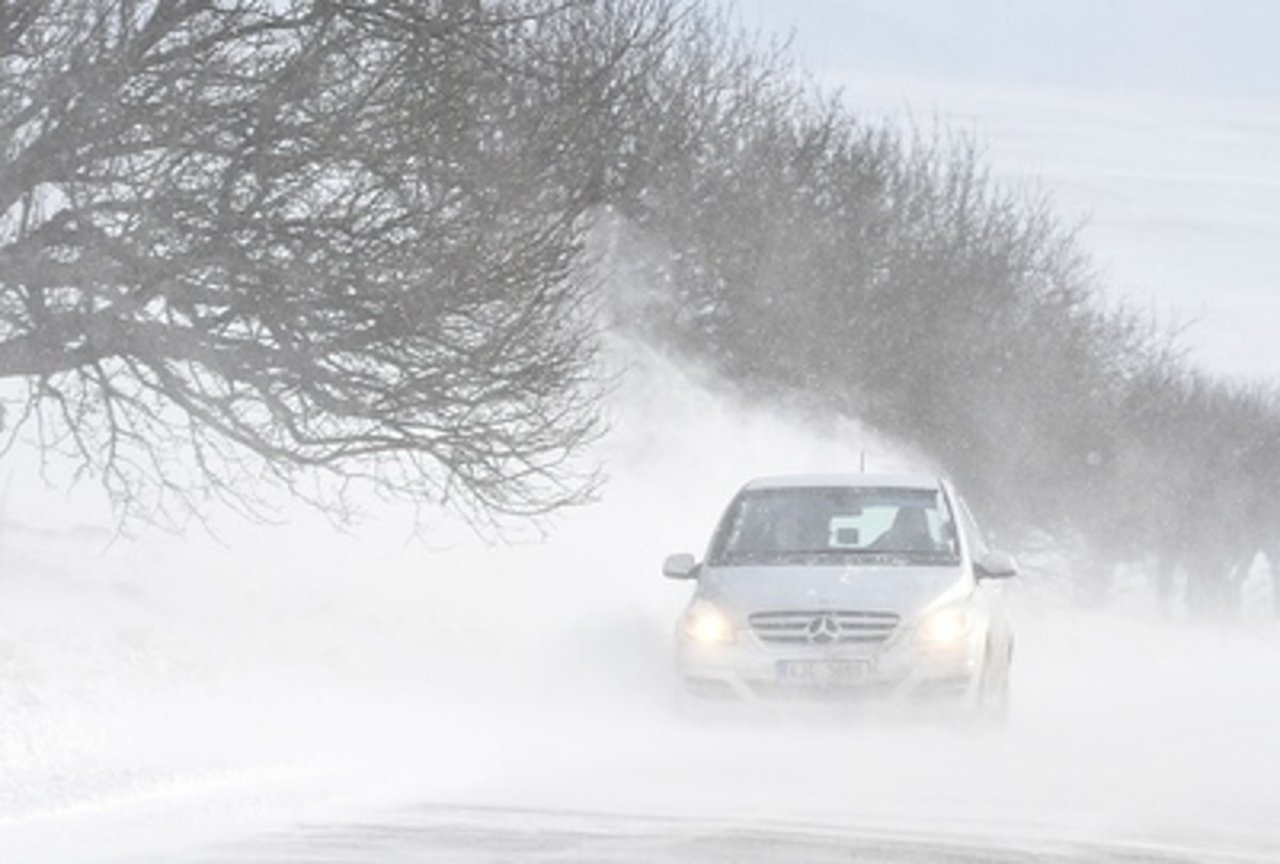car: (666, 471, 1025, 726)
